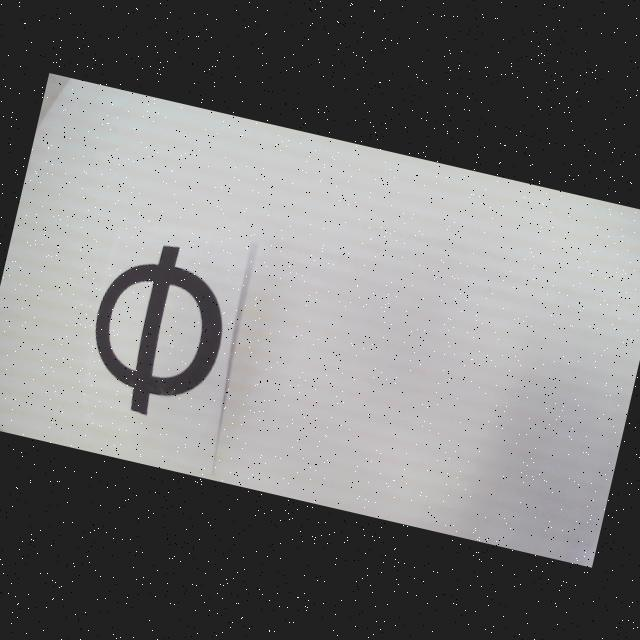PHI: (78, 232, 240, 428)
